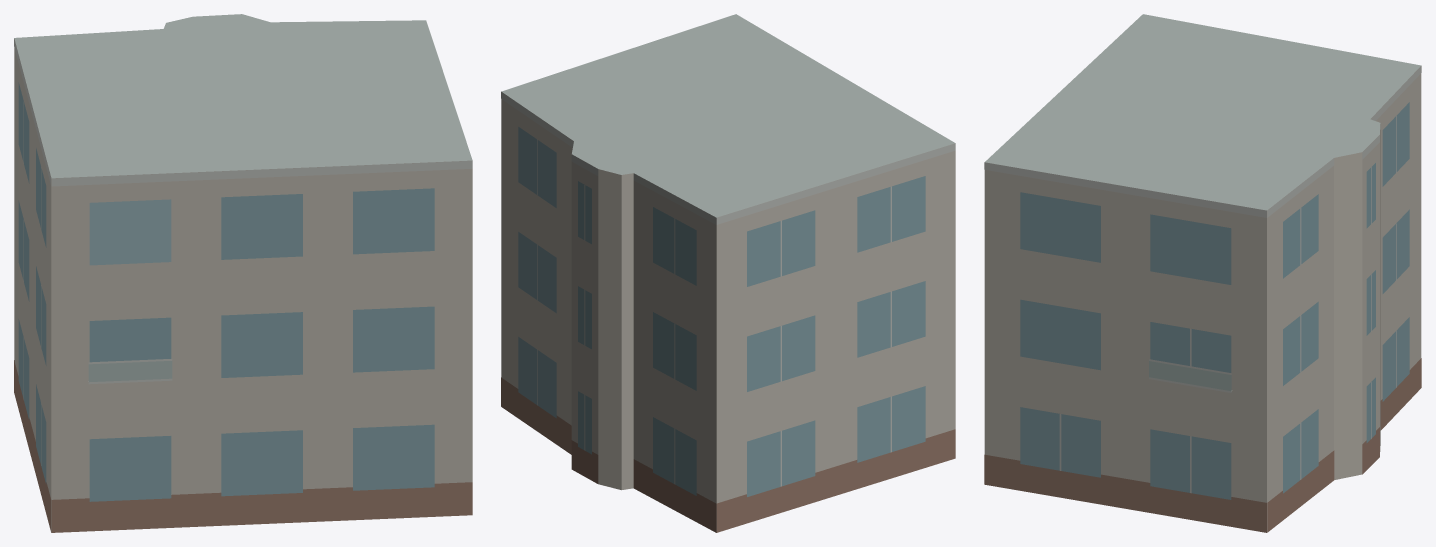
Rendered from survey-upis-32747253.glb.
3 views of the same model, side by side, from view 1: azimuth 30°, elevation 25°; view 2: azimuth 150°, elevation 25°; view 3: azimuth 270°, elevation 25° (orthographic). The views are drawn at different scales.
Visible parts, largest first — view 1: survey-upis-32747253.tmp; view 2: survey-upis-32747253.tmp; view 3: survey-upis-32747253.tmp.
Boxes of the visible parts, x1,y1,x2,y2 form: survey-upis-32747253.tmp: (14,14,472,532); survey-upis-32747253.tmp: (501,14,955,532); survey-upis-32747253.tmp: (984,14,1421,532).
Size of the model in its own units: 13.74 by 10.5 by 12.91.
